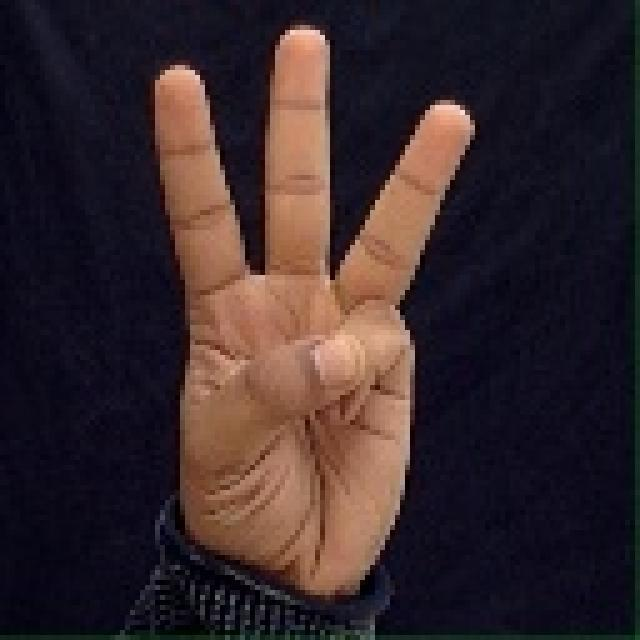Please: (128, 19, 496, 601)
